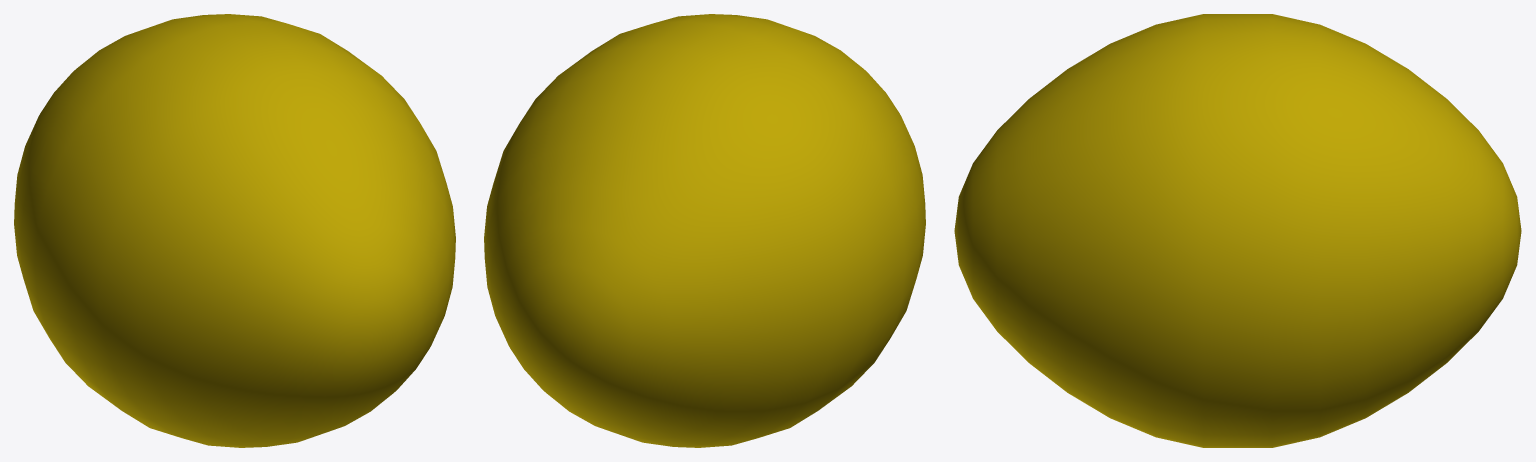
The model's file is LemonWhole.FBX.
3 views of the same model, side by side, from view 1: azimuth 30°, elevation 25°; view 2: azimuth 150°, elevation 25°; view 3: azimuth 270°, elevation 25° (orthographic). The views are drawn at different scales.
Visible parts, largest first — view 1: LemonWhole; view 2: LemonWhole; view 3: LemonWhole.
Boxes of the visible parts, box(x1,y1,x2,y2) form: LemonWhole: box(14, 14, 455, 447); LemonWhole: box(484, 14, 925, 447); LemonWhole: box(954, 14, 1521, 447).
Size of the model in its own units: 9.59 by 9.59 by 12.52.
